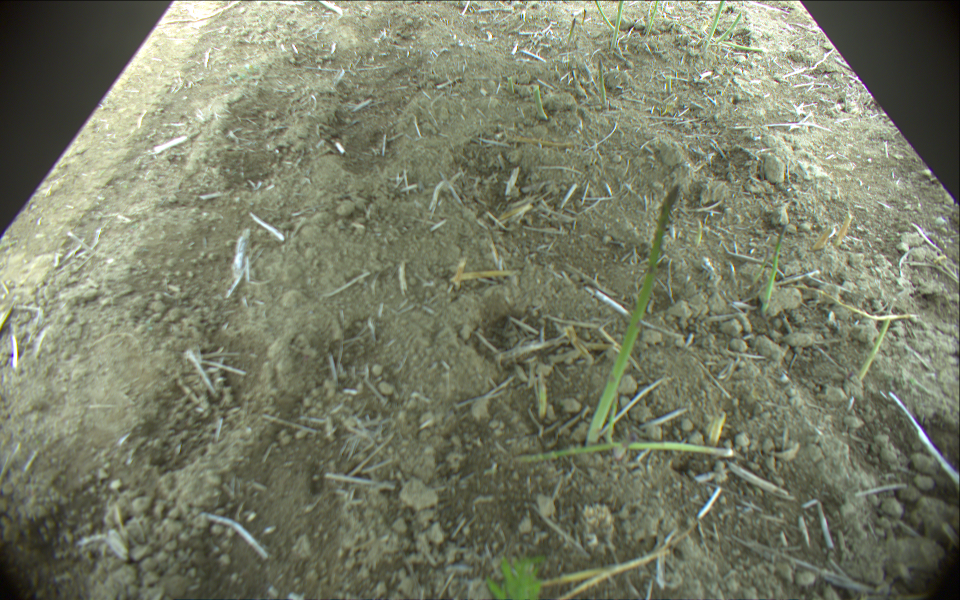aspa: (586, 183, 684, 449), (512, 442, 734, 462), (858, 314, 892, 385), (764, 224, 790, 312), (714, 13, 745, 46), (532, 366, 549, 422), (704, 1, 725, 46), (712, 42, 768, 56), (597, 58, 610, 111), (595, 1, 618, 30), (613, 1, 627, 48), (644, 1, 662, 37), (533, 87, 546, 114), (570, 16, 576, 47), (507, 74, 516, 93)
